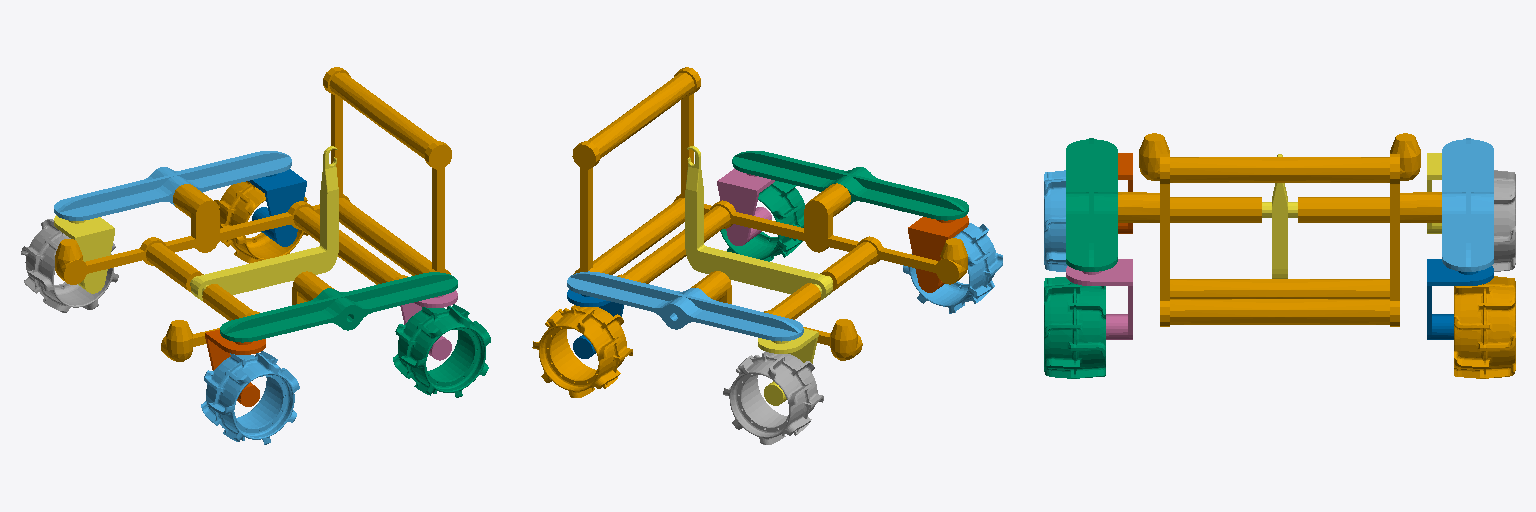
robot.urdf — RoRoverDiff:
<?xml version="1.0"?>
<robot name="RoRoverDiff">

<!-- ROS Control Plugin used to drive locomotion system and hook -->
  <gazebo>
    <plugin name="gazebo_ros_control" filename="libgazebo_ros_control.so">
      <!--robotNamespace>/rorover</robotNamespace-->
    </plugin>
  </gazebo>

<!-- Root Chassis -->
      <link name='chassis'>
        <collision>
          <origin xyz="0.0 0.0 0.0" rpy="0.0 0.0 0.0" />
          <geometry>
            <mesh filename="package://rorover_skid_steer/meshes/DifferentialChassis.stl" />
          </geometry>
          <surface>
            <bounce>
              <restitution_coefficient>0.35</restitution_coefficient>
              <threshold>0.025</threshold>
            </bounce>
          </surface>
        </collision>
        <visual>
          <origin xyz="0.0 0.0 0.0" rpy="0.0 0.0 0.0" />
          <geometry>
            <mesh filename="package://rorover_skid_steer/meshes/DifferentialChassis.stl" />
          </geometry>
        </visual>
      <inertial>
        <mass value="5.306" />
        <origin xyz="0.123149 0.0 0.06677"
                rpy="0.0 -0.2556907354 0.0" />
        <inertia
 	  ixx="0.221974787" ixy="0.0" ixz="0.0"
	  iyy="0.341467333" iyz="0.0"
	  izz="0.454114912" />
      </inertial>
      </link>

<!-- Left Differential Suspension Arm -->
      <link name='left_arm'>
        <collision>
          <origin xyz="0.0 0.0 0.0" rpy="0.0 0.0 0.0" />
          <geometry>
            <mesh filename="package://rorover_skid_steer/meshes/SuspensionArm.stl" />
          </geometry>
          <surface>
            <bounce>
              <restitution_coefficient>0.35</restitution_coefficient>
              <threshold>0.025</threshold>
            </bounce>
          </surface>
        </collision>
        <visual>
          <origin xyz="0.0 0.0 0.0" rpy="0.0 0.0 0.0" />
          <geometry>
            <mesh filename="package://rorover_skid_steer/meshes/SuspensionArm.stl" />
          </geometry>
        </visual>
      <inertial>
        <mass value="0.906" />
        <origin xyz="0.0 0.0 0.004832"
                rpy="0.0 0.0 0.0" />
        <inertia
 	  ixx="0.000742332" ixy="0.0" ixz="0.0"
	  iyy="0.018848023" iyz="0.0"
	  izz="0.019383356" />
      </inertial>
      </link>

      <joint type="revolute" name="left_arm_hinge">
	<origin xyz="0.0 0.36 0.065"
                rpy="0.0 0.0 0.0" />
        <child link="left_arm" />
        <parent link="chassis" />
        <axis xyz="0 1 0" />
        <limit lower="-0.2" upper="0.2" effort="100" velocity="1.0" />
        <dynamics damping="0.1" />
      </joint>

<!-- Right Differential Suspension Arm -->
      <link name='right_arm'>
        <collision>
          <origin xyz="0.0 0.0 0.0" rpy="0.0 0.0 0.0" />
          <geometry>
            <mesh filename="package://rorover_skid_steer/meshes/SuspensionArm.stl" />
          </geometry>
          <surface>
            <bounce>
              <restitution_coefficient>0.35</restitution_coefficient>
              <threshold>0.025</threshold>
            </bounce>
          </surface>
        </collision>
        <visual>
          <origin xyz="0.0 0.0 0.0" rpy="0.0 0.0 0.0" />
          <geometry>
            <mesh filename="package://rorover_skid_steer/meshes/SuspensionArm.stl" />
          </geometry>
        </visual>
      <inertial>
        <mass value="0.906" />
        <origin xyz="0.0 0.0 0.004832"
                rpy="0.0 0.0 0.0" />
        <inertia
 	  ixx="0.000742332" ixy="0.0" ixz="0.0"
	  iyy="0.018848023" iyz="0.0"
	  izz="0.019383356" />
      </inertial>
      </link>

      <joint type="revolute" name="right_arm_hinge">
	<origin xyz="0.0 -0.36 0.065"
                rpy="0.0 0.0 0.0" />
        <child link="right_arm" />
        <parent link="chassis" />
        <axis xyz="0 -1 0" />
        <limit lower="-0.2" upper="0.2" effort="100" velocity="1.0" />
        <mimic joint="left_arm_hinge" />
      </joint>

<!-- Mimic Joint plugin to create differential suspension -->
  <gazebo>
    <plugin name="gazebo_mimic_joint" filename="libroboticsgroup_gazebo_mimic_joint_plugin.so">
      <joint>left_arm_hinge</joint>
        <mimicJoint>right_arm_hinge</mimicJoint>
        <multiplier>1.0</multiplier>
        <sensitiveness>0.0</sensitiveness>   
        <maxEffort>100.0</maxEffort>             
      </plugin>
  </gazebo>

<!-- Left Front Steering Arm -->
      <link name='left_front_steering'>
        <collision>
          <origin xyz="0.0 0.0 0.0" rpy="0.0 0.0 0.0" />
          <geometry>
            <mesh filename="package://rorover_skid_steer/meshes/SteeringArm.stl" />
          </geometry>
          <surface>
            <bounce>
              <restitution_coefficient>0.35</restitution_coefficient>
              <threshold>0.025</threshold>
            </bounce>
          </surface>
        </collision>
        <visual>
          <origin xyz="0.0 0.0 0.0" rpy="0.0 0.0 0.0" />
          <geometry>
            <mesh filename="package://rorover_skid_steer/meshes/SteeringArm.stl" />
          </geometry>
        </visual>
      <inertial>
        <mass value="0.420" />
        <origin xyz="0.0 0.030299 -0.082164"
                rpy="-0.0218166156 0.0 0.0" />
        <inertia
 	  ixx="0.001752153" ixy="0.0" ixz="0.0"
	  iyy="0.001383863" iyz="0.0"
	  izz="0.000702665" />
      </inertial>
      </link>

      <joint type="fixed" name="left_front_steering_joint">
	<origin xyz="-0.24 0.0 -0.01"
                rpy="0.0 0.0 3.1416" />
        <child link="left_front_steering" />
        <parent link="left_arm" />
      </joint>

<!-- Left Rear Steering Arm -->
      <link name='left_rear_steering'>
        <collision>
          <origin xyz="0.0 0.0 0.0" rpy="0.0 0.0 0.0" />
          <geometry>
            <mesh filename="package://rorover_skid_steer/meshes/SteeringArm.stl" />
          </geometry>
          <surface>
            <bounce>
              <restitution_coefficient>0.35</restitution_coefficient>
              <threshold>0.025</threshold>
            </bounce>
          </surface>
        </collision>
        <visual>
          <origin xyz="0.0 0.0 0.0" rpy="0.0 0.0 0.0" />
          <geometry>
            <mesh filename="package://rorover_skid_steer/meshes/SteeringArm.stl" />
          </geometry>
        </visual>
      <inertial>
        <mass value="0.420" />
        <origin xyz="0.0 0.030299 -0.082164"
                rpy="-0.0218166156 0.0 0.0" />
        <inertia
 	  ixx="0.001752153" ixy="0.0" ixz="0.0"
	  iyy="0.001383863" iyz="0.0"
	  izz="0.000702665" />
      </inertial>
      </link>

      <joint type="fixed" name="left_rear_steering_joint">
	<origin xyz="0.24 0.0 -0.01"
                rpy="0.0 0.0 3.1416" />
        <child link="left_rear_steering" />
        <parent link="left_arm" />
      </joint>

<!-- Right Front Steering Arm -->
      <link name='right_front_steering'>
        <collision>
          <origin xyz="0.0 0.0 0.0" rpy="0.0 0.0 0.0" />
          <geometry>
            <mesh filename="package://rorover_skid_steer/meshes/SteeringArm.stl" />
          </geometry>
          <surface>
            <bounce>
              <restitution_coefficient>0.35</restitution_coefficient>
              <threshold>0.025</threshold>
            </bounce>
          </surface>
        </collision>
        <visual>
          <origin xyz="0.0 0.0 0.0" rpy="0.0 0.0 0.0" />
          <geometry>
            <mesh filename="package://rorover_skid_steer/meshes/SteeringArm.stl" />
          </geometry>
        </visual>
      <inertial>
        <mass value="0.420" />
        <origin xyz="0.0 0.030299 -0.082164"
                rpy="-0.0218166156 0.0 0.0" />
        <inertia
 	  ixx="0.001752153" ixy="0.0" ixz="0.0"
	  iyy="0.001383863" iyz="0.0"
	  izz="0.000702665" />
      </inertial>
      </link>

      <joint type="fixed" name="right_front_steering_joint">
	<origin xyz="-0.24 0.0 -0.01"
                rpy="0.0 0.0 0.0" />
        <child link="right_front_steering" />
        <parent link="right_arm" />
      </joint>

<!-- Right Rear Steering Arm -->
      <link name='right_rear_steering'>
        <collision>
          <origin xyz="0.0 0.0 0.0" rpy="0.0 0.0 0.0" />
          <geometry>
            <mesh filename="package://rorover_skid_steer/meshes/SteeringArm.stl" />
          </geometry>
          <surface>
            <bounce>
              <restitution_coefficient>0.35</restitution_coefficient>
              <threshold>0.025</threshold>
            </bounce>
          </surface>
        </collision>
        <visual>
          <origin xyz="0.0 0.0 0.0" rpy="0.0 0.0 0.0" />
          <geometry>
            <mesh filename="package://rorover_skid_steer/meshes/SteeringArm.stl" />
          </geometry>
        </visual>
      <inertial>
        <mass value="0.420" />
        <origin xyz="0.0 0.030299 -0.082164"
                rpy="-0.0218166156 0.0 0.0" />
        <inertia
 	  ixx="0.001752153" ixy="0.0" ixz="0.0"
	  iyy="0.001383863" iyz="0.0"
	  izz="0.000702665" />
      </inertial>
      </link>

      <joint type="fixed" name="right_rear_steering_joint">
	<origin xyz="0.24 0.0 -0.01"
                rpy="0.0 0.0 0.0" />
        <child link="right_rear_steering" />
        <parent link="right_arm" />
      </joint>

<!-- Left Front Wheel link, joint and transmission -->
      <link name="left_front_wheel">
        <collision name="collision">
          <origin xyz="0.0 0.0 0.0" rpy="0.0 0.0 0.0" />
          <geometry>
            <cylinder length="0.117" radius="0.1" />
          </geometry>
          <surface>
            <bounce>
              <restitution_coefficient>0.35</restitution_coefficient>
              <threshold>0.025</threshold>
            </bounce>
          </surface>
        </collision>
        <visual name="visual">
          <origin xyz="0.0 0.0 0.0" rpy="0.0 0.0 0.0" />
          <geometry>
            <mesh filename="package://rorover_skid_steer/meshes/wheel_unders.dae" />
          </geometry>
        </visual>
        <inertial>
          <mass value="0.454"/>
	  <origin zyx="0.0 0.0 0.001805" rpy="0.0 0.0 0.5167919915" />
	  <inertia 
	    ixx="0.001983016" ixy="0.0" ixz="0.0"
	    iyy="0.001983016" iyz="0.0"
	    izz="0.00297862" />
        </inertial>
      </link>

      <joint type="continuous" name="left_front_wheel_hinge">
	<origin xyz="0.0 -0.0315 -0.130" rpy="1.5707 0.0 0.0" />
        <child link="left_front_wheel" />
        <parent link="left_front_steering" />
        <axis xyz="0 0 1" />
        <dynamics damping="0.1" />
      </joint>

  <transmission name="left_front_trans">
    <type>transmission_interface/SimpleTransmission</type>
    <joint name="left_front_wheel_hinge">
      <hardwareInterface>hardware_interface/VelocityJointInterface</hardwareInterface>
    </joint>
    <actuator name="left_front_motor">
      <mechanicalReduction>1</mechanicalReduction>
    </actuator>
  </transmission>

<!-- Left Rear Wheel link, joint and transmission -->
      <link name="left_rear_wheel">
        <collision name="collision">
          <origin xyz="0.0 0.0 0.0" rpy="0.0 0.0 0.0" />
          <geometry>
            <cylinder length="0.117" radius="0.1" />
          </geometry>
          <surface>
            <bounce>
              <restitution_coefficient>0.35</restitution_coefficient>
              <threshold>0.025</threshold>
            </bounce>
          </surface>
        </collision>
        <visual name="visual">
          <origin xyz="0.0 0.0 0.0" rpy="0.0 0.0 0.0" />
          <geometry>
            <mesh filename="package://rorover_skid_steer/meshes/wheel_unders.dae" />
          </geometry>
        </visual>
        <inertial>
          <mass value="0.454"/>
	  <origin zyx="0.0 0.0 0.001805" rpy="0.0 0.0 0.5167919915" />
	  <inertia 
	    ixx="0.001983016" ixy="0.0" ixz="0.0"
	    iyy="0.001983016" iyz="0.0"
	    izz="0.00297862" />
        </inertial>
      </link>

      <joint type="continuous" name="left_rear_wheel_hinge">
	<origin xyz="0.0 -0.0315 -0.130" rpy="1.5707 0.0 0.0" />
        <child link="left_rear_wheel" />
        <parent link="left_rear_steering" />
        <axis xyz="0 0 1" />
        <dynamics damping="0.1" />
      </joint>

  <transmission name="left_rear_trans">
    <type>transmission_interface/SimpleTransmission</type>
    <joint name="left_rear_wheel_hinge">
      <hardwareInterface>hardware_interface/VelocityJointInterface</hardwareInterface>
    </joint>
    <actuator name="left_rear_motor">
      <mechanicalReduction>1</mechanicalReduction>
    </actuator>
  </transmission>







<!-- Right Front Wheel link, joint and transmission -->
      <link name="right_front_wheel">
        <collision name="collision">
          <origin xyz="0.0 0.0 0.0" rpy="0.0 0.0 0.0" />
          <geometry>
            <cylinder length="0.117" radius="0.1" />
          </geometry>
          <surface>
            <bounce>
              <restitution_coefficient>0.35</restitution_coefficient>
              <threshold>0.025</threshold>
            </bounce>
          </surface>
        </collision>
        <visual name="visual">
          <origin xyz="0.0 0.0 0.0" rpy="0.0 0.0 0.0" />
          <geometry>
            <mesh filename="package://rorover_skid_steer/meshes/wheel_unders.dae" />
          </geometry>
        </visual>
        <inertial>
          <mass value="0.454"/>
	  <origin zyx="0.0 0.0 0.001805" rpy="0.0 0.0 0.5167919915" />
	  <inertia 
	    ixx="0.001983016" ixy="0.0" ixz="0.0"
	    iyy="0.001983016" iyz="0.0"
	    izz="0.00297862" />
        </inertial>
      </link>

      <joint type="continuous" name="right_front_wheel_hinge">
	<origin xyz="0.0 -0.0315 -0.130" rpy="1.5707 0.0 0.0" />
        <child link="right_front_wheel" />
        <parent link="right_front_steering" />
        <axis xyz="0 0 -1" />
        <dynamics damping="0.1" />
      </joint>

  <transmission name="right_front_trans">
    <type>transmission_interface/SimpleTransmission</type>
    <joint name="right_front_wheel_hinge">
      <hardwareInterface>hardware_interface/VelocityJointInterface</hardwareInterface>
    </joint>
    <actuator name="right_front_motor">
      <mechanicalReduction>1</mechanicalReduction>
    </actuator>
  </transmission>

<!-- Right Rear Wheel link, joint and transmission -->
      <link name="right_rear_wheel">
        <collision name="collision">
          <origin xyz="0.0 0.0 0.0" rpy="0.0 0.0 0.0" />
          <geometry>
            <cylinder length="0.117" radius="0.1" />
          </geometry>
          <surface>
            <bounce>
              <restitution_coefficient>0.35</restitution_coefficient>
              <threshold>0.025</threshold>
            </bounce>
          </surface>
        </collision>
        <visual name="visual">
          <origin xyz="0.0 0.0 0.0" rpy="0.0 0.0 0.0" />
          <geometry>
            <mesh filename="package://rorover_skid_steer/meshes/wheel_unders.dae" />
          </geometry>
        </visual>
        <inertial>
          <mass value="0.454"/>
	  <origin zyx="0.0 0.0 0.001805" rpy="0.0 0.0 0.5167919915" />
	  <inertia 
	    ixx="0.001983016" ixy="0.0" ixz="0.0"
	    iyy="0.001983016" iyz="0.0"
	    izz="0.00297862" />
        </inertial>
      </link>

      <joint type="continuous" name="right_rear_wheel_hinge">
	<origin xyz="0.0 -0.0315 -0.130" rpy="1.5707 0.0 0.0" />
        <child link="right_rear_wheel" />
        <parent link="right_rear_steering" />
        <axis xyz="0 0 -1" />
        <dynamics damping="0.1" />
      </joint>

  <transmission name="right_rear_trans">
    <type>transmission_interface/SimpleTransmission</type>
    <joint name="right_rear_wheel_hinge">
      <hardwareInterface>hardware_interface/VelocityJointInterface</hardwareInterface>
    </joint>
    <actuator name="right_rear_motor">
      <mechanicalReduction>1</mechanicalReduction>
    </actuator>
  </transmission>

<!-- Roll On Roll Off Hook -->
      <link name="hook">
        <collision name="collision">
          <origin xyz="0.0 0.0 0.0" rpy="0.0 0.0 0.0" />
          <geometry>
            <mesh filename="package://rorover_skid_steer/meshes/Hook_Arm_v0.2_collision.stl" />
          </geometry>
          <surface>
            <bounce>
              <restitution_coefficient>0.35</restitution_coefficient>
              <threshold>0.025</threshold>
            </bounce>
          </surface>
        </collision>
        <visual name="visual">
          <origin xyz="0.0 0.0 0.0" rpy="0.0 0.0 0.0" />
          <geometry>
            <mesh filename="package://rorover_skid_steer/meshes/Hook_Arm_v0.2_collision.stl" />
          </geometry>
        </visual>
        <inertial>
          <mass value="0.702" />
	  <origin xyz="0.0 0.1826163 0.027687"
                  rpy="0.3199188519 0.0 0.0" />
	  <inertia 
	    ixx="0.011657837" ixy="0.0" ixz="0.0"
	    iyy="0.001605345" iyz="0.0"
	    izz="0.010187828" />
        </inertial>
      </link>

      <joint type="revolute" name="joint1">
	<origin xyz="-0.13 0.0 0.0" rpy="0.0 0.0 -1.5707" />
        <child link="hook" />
        <parent link="chassis" />
        <axis xyz="1 0 0" />
        <limit lower="-0.0" upper="2.617993878" effort="100" velocity="0.0001" />
        <safety_controller_not k_velocity="100" k_position="100" soft_lower_limit="0.0" soft_upper_limit="2.517" />
      </joint>

  <transmission name="hook_trans">
    <type>transmission_interface/SimpleTransmission</type>
    <joint name="joint1">
      <hardwareInterface>hardware_interface/EffortJointInterface</hardwareInterface>
    </joint>
    <actuator name="hook_motor">
      <mechanicalReduction>50</mechanicalReduction>
    </actuator>
  </transmission>

</robot>

--- What the picture shows (computed from the rendered views, not written in the file) ---
The picture shows the robot from 3 angles, left to right: view 1: azimuth 30°, elevation 25°; view 2: azimuth 150°, elevation 25°; view 3: azimuth 270°, elevation 25°; orthographic projection.
Model RoRoverDiff with 12 links and 11 joints (3 revolute, 4 continuous, 4 fixed), rooted at chassis, posed every joint at zero.
Visible links, largest first — view 1: chassis, right_arm, left_arm, right_front_wheel, right_rear_wheel, hook, left_front_wheel, left_rear_wheel, left_rear_steering, left_front_steering, right_front_steering, right_rear_steering; view 2: chassis, left_arm, right_arm, left_front_wheel, left_rear_wheel, hook, right_front_wheel, right_rear_wheel, right_rear_steering, right_front_steering, left_front_steering, left_rear_steering; view 3: chassis, left_arm, right_arm, left_rear_wheel, right_rear_wheel, right_front_wheel, left_front_wheel, left_rear_steering, right_rear_steering, hook, left_front_steering, right_front_steering.
Boxes of the visible links, x1,y1,x2,y2 form: chassis: (55, 67, 451, 361); right_arm: (220, 272, 457, 342); left_arm: (54, 151, 291, 220); right_front_wheel: (201, 351, 299, 444); right_rear_wheel: (393, 304, 490, 397); hook: (190, 146, 338, 300); left_front_wheel: (21, 219, 118, 312); left_rear_wheel: (214, 181, 307, 263); left_rear_steering: (248, 169, 306, 246); left_front_steering: (54, 215, 114, 293); right_front_steering: (205, 329, 265, 406); right_rear_steering: (400, 290, 457, 360); chassis: (572, 67, 967, 360); left_arm: (567, 271, 803, 341); right_arm: (732, 151, 968, 220); left_front_wheel: (723, 351, 823, 444); left_rear_wheel: (532, 305, 632, 397); hook: (685, 146, 832, 300); right_front_wheel: (903, 223, 1002, 313); right_rear_wheel: (720, 181, 804, 261); right_rear_steering: (717, 168, 774, 245); right_front_steering: (908, 215, 968, 292); left_front_steering: (758, 328, 818, 405); left_rear_steering: (567, 290, 623, 358); chassis: (1118, 133, 1441, 326); left_arm: (1442, 138, 1493, 271); right_arm: (1066, 138, 1117, 271); left_rear_wheel: (1454, 276, 1515, 378); right_rear_wheel: (1044, 277, 1105, 378); right_front_wheel: (1044, 170, 1067, 271); left_front_wheel: (1492, 170, 1515, 271); left_rear_steering: (1427, 259, 1493, 339); right_rear_steering: (1066, 259, 1132, 339); hook: (1262, 154, 1297, 278); left_front_steering: (1427, 153, 1441, 233); right_front_steering: (1118, 153, 1132, 233).
Size in the robot's own frame: 0.7193 by 0.9007 by 0.5021 metres.
Meshes: 5 distinct files referenced, 12 mesh visuals loaded (4 binary STL, 1 Collada DAE).